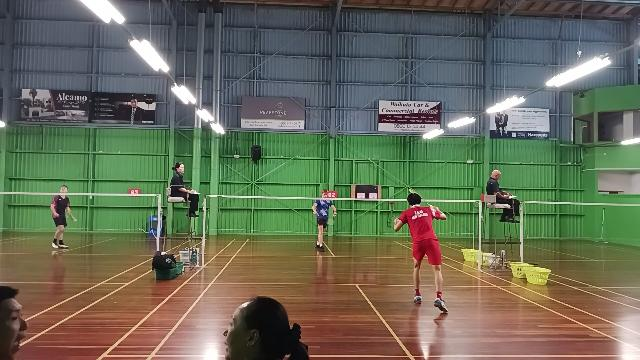Shuttlecock: (332, 210, 338, 218)
